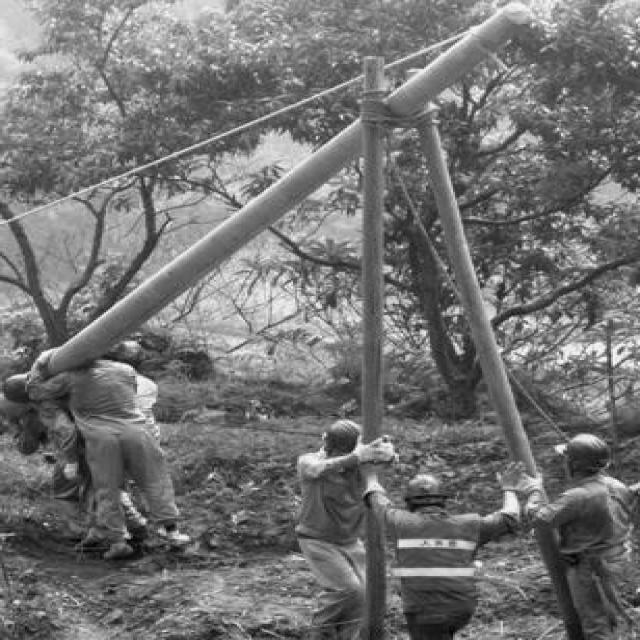head_helmet: (553, 424, 609, 464), (104, 330, 158, 370), (316, 416, 370, 454), (405, 472, 457, 498), (0, 368, 40, 400)
person: (287, 406, 399, 640), (521, 419, 638, 627), (71, 339, 160, 562), (386, 464, 496, 640), (8, 356, 83, 530)
vest: (391, 512, 474, 600)
